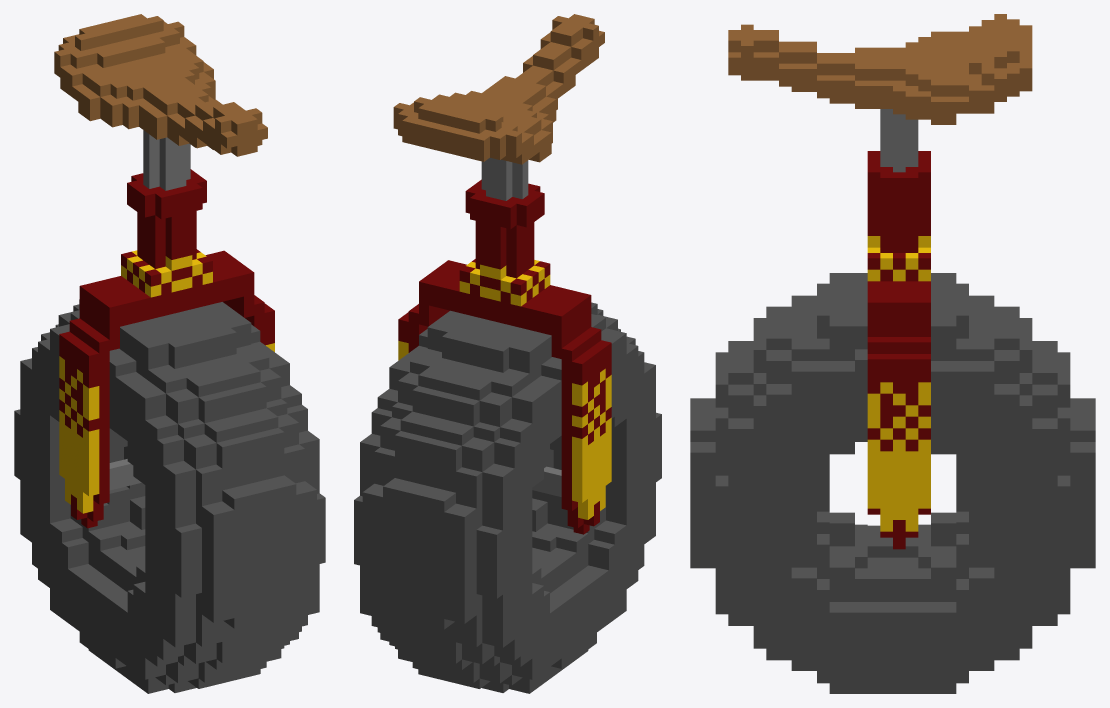
Rendered from AS_Monocycle.glb.
The picture shows the model from 3 angles, left to right: view 1: azimuth 30°, elevation 25°; view 2: azimuth 150°, elevation 25°; view 3: azimuth 270°, elevation 25°; orthographic projection. The views are drawn at different scales.
Parts seen in each view (by area): view 1: Rueda, Sillín; view 2: Rueda, Sillín; view 3: Rueda, Sillín.
Part boxes in pixels (x1,y1,x2,y2): Rueda: (14, 299, 325, 693); Sillín: (54, 14, 274, 528); Rueda: (354, 302, 661, 693); Sillín: (393, 14, 611, 534); Rueda: (690, 273, 1095, 693); Sillín: (728, 14, 1032, 549).
Bounding box in the file's own units: 1.8 × 5.5 × 3.2.
Materials: 2 (2 with a texture image).
